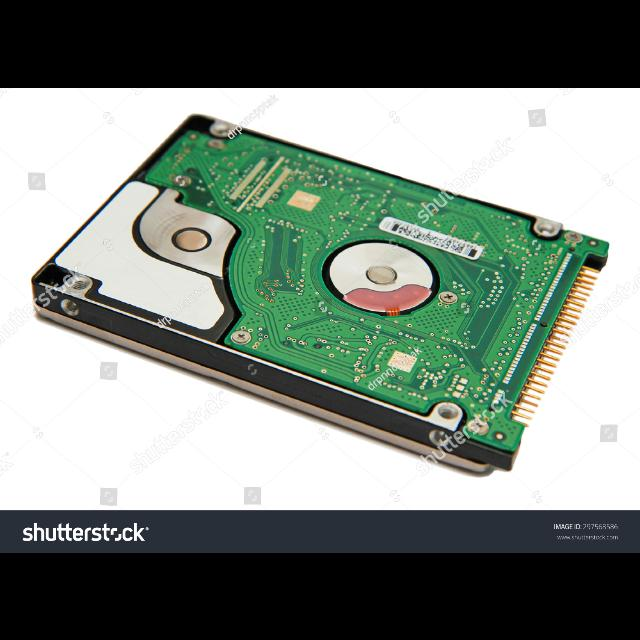HDD: (29, 114, 611, 471)
